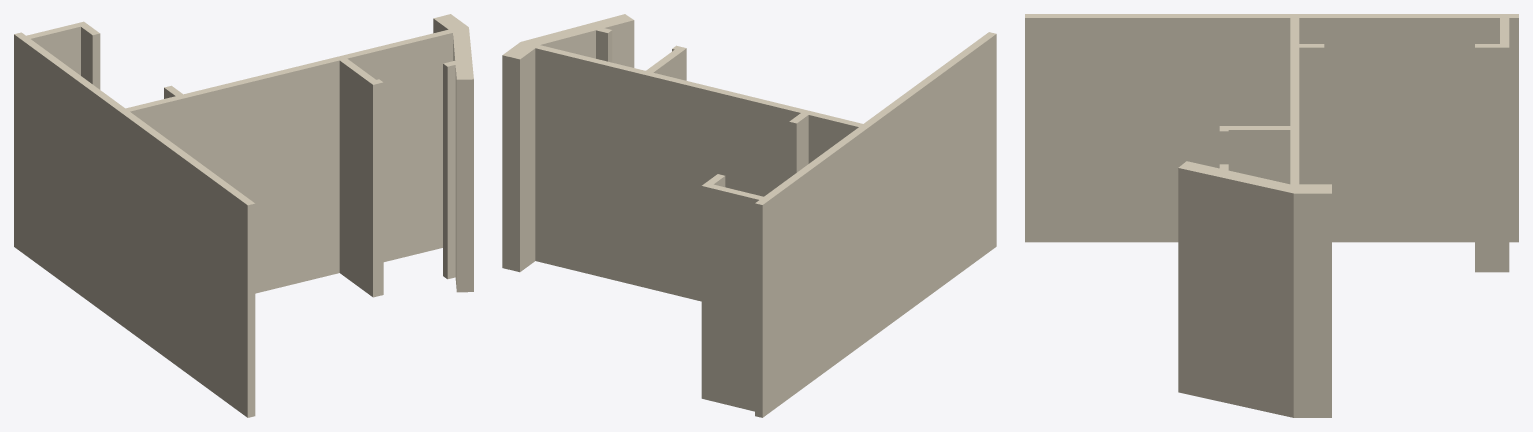
3 renders of one model, left to right at view 1: azimuth 30°, elevation 25°; view 2: azimuth 150°, elevation 25°; view 3: azimuth 270°, elevation 25°, orthographic. The views are drawn at different scales.
Parts seen in each view (by area): view 1: B-GF-WALL-014; view 2: B-GF-WALL-014; view 3: B-GF-WALL-014.
Boxes of the visible parts, bbox=[...] form: B-GF-WALL-014: bbox=[14, 14, 473, 417]; B-GF-WALL-014: bbox=[502, 14, 996, 417]; B-GF-WALL-014: bbox=[1025, 14, 1518, 417].
Bounding box in the file's own units: 4.15 × 2.42 × 4.82.
